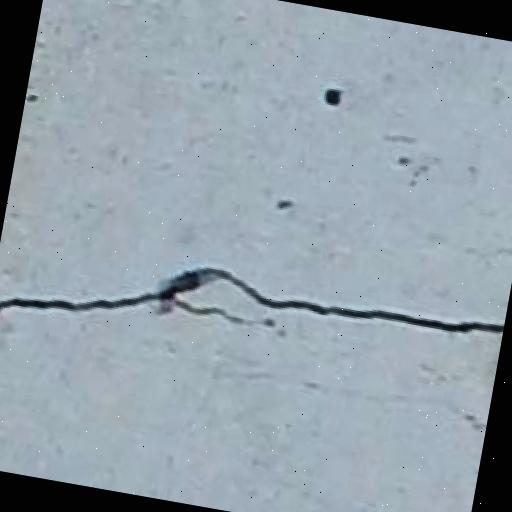spalling: (0, 251, 494, 349)
